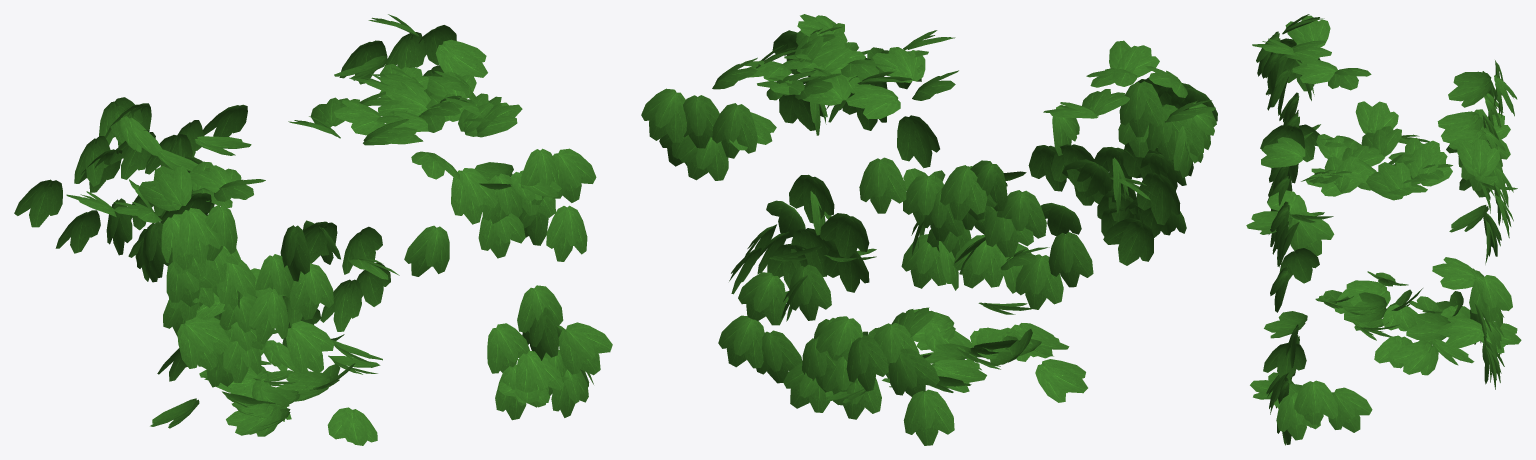
File: walkway_veg_2.obj
The picture shows the model from 3 angles, left to right: view 1: azimuth 30°, elevation 25°; view 2: azimuth 150°, elevation 25°; view 3: azimuth 270°, elevation 25°; orthographic projection. The views are drawn at different scales.
Visible parts, largest first — view 1: walkway_veg_2; view 2: walkway_veg_2; view 3: walkway_veg_2.
Boxes of the visible parts, x1,y1,x2,y2 form: walkway_veg_2: (14, 14, 612, 445); walkway_veg_2: (641, 14, 1217, 445); walkway_veg_2: (1246, 14, 1521, 445).
Size of the model in its own units: 23.15 by 15.43 by 13.96.
